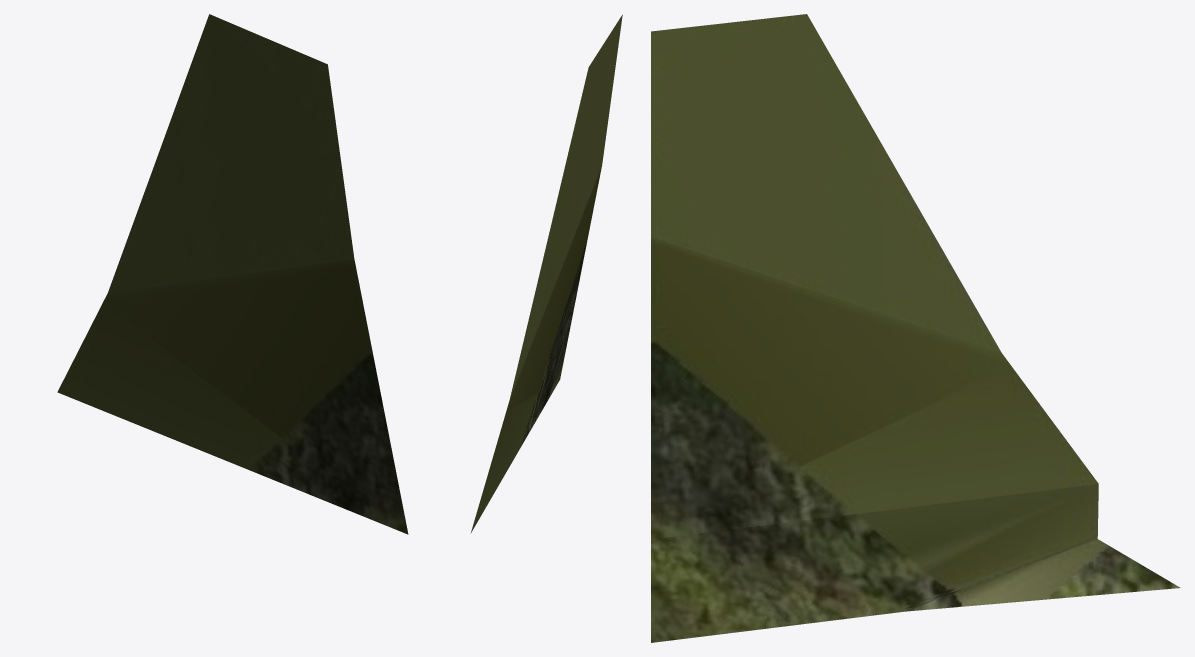
3 views of the same model, side by side, from view 1: azimuth 30°, elevation 25°; view 2: azimuth 150°, elevation 25°; view 3: azimuth 270°, elevation 25° (orthographic). The views are drawn at different scales.
Size of the model in its own units: 0.6084 by 2.95 by 2.47.
2 materials, 2 textured.
